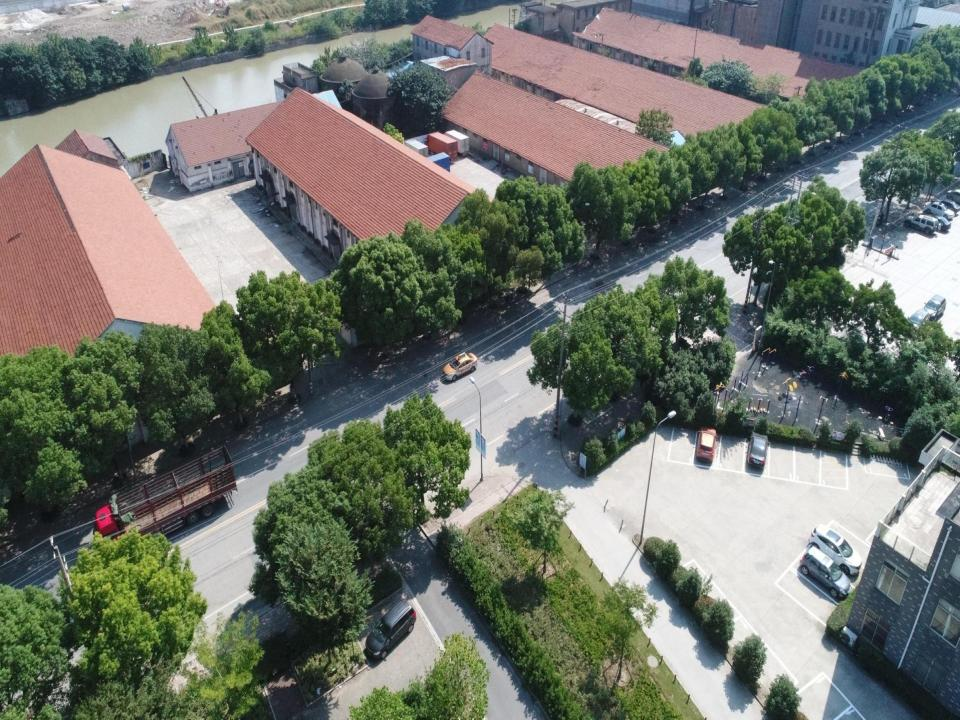car: (363, 595, 416, 661), (809, 522, 862, 574), (798, 545, 850, 597), (441, 352, 479, 383), (748, 430, 770, 469), (696, 425, 718, 462), (904, 214, 938, 234), (901, 309, 929, 333), (922, 294, 946, 321), (923, 201, 955, 220), (924, 212, 951, 232), (940, 198, 959, 214), (946, 188, 959, 203)
truck: (78, 441, 237, 552), (422, 130, 458, 163), (441, 128, 469, 157)
